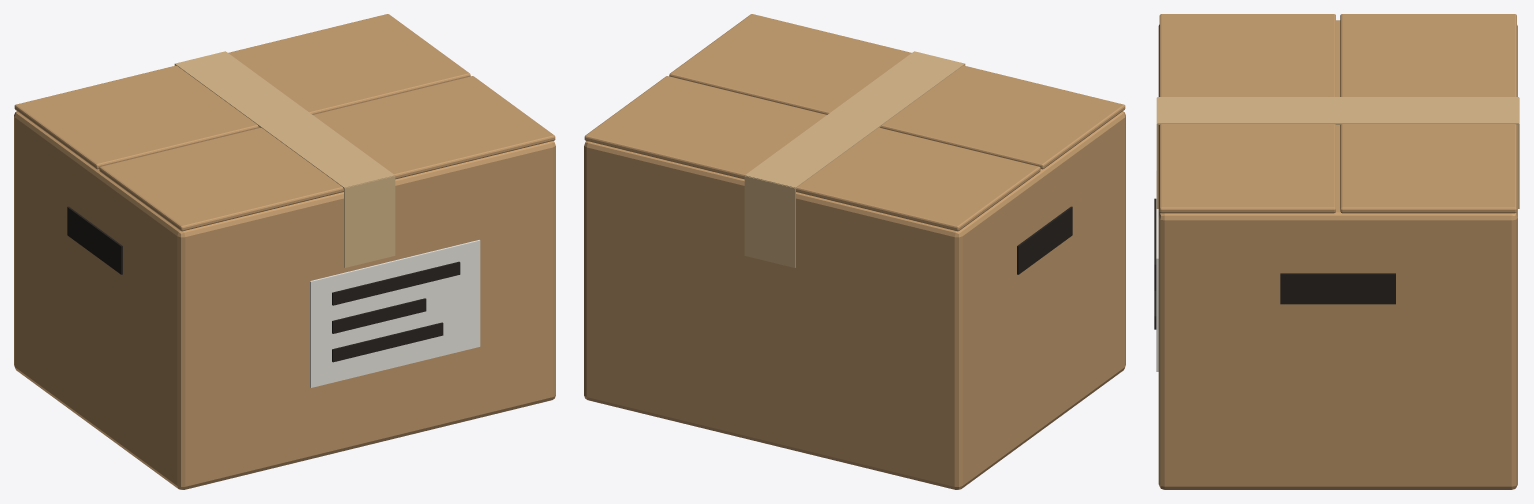
File: hh_cat_labelled_box.glb
The picture shows the model from 3 angles, left to right: view 1: azimuth 30°, elevation 25°; view 2: azimuth 150°, elevation 25°; view 3: azimuth 270°, elevation 25°; orthographic projection. The views are drawn at different scales.
Parts seen in each view (by area): view 1: carton, flap, flap.001, label, tape, tape.001, writing, hand_hole, writing.002, writing.001; view 2: carton, flap.001, flap, tape, tape.002, hand_hole; view 3: carton, flap, flap.001, tape, hand_hole.001, label.
Part boxes in pixels (x1,y1,x2,y2): carton: [14, 111, 555, 489]; flap: [99, 76, 555, 231]; flap.001: [14, 14, 470, 169]; label: [310, 240, 480, 387]; tape: [174, 51, 395, 188]; tape.001: [344, 176, 395, 267]; writing: [332, 261, 460, 305]; hand_hole: [67, 206, 122, 274]; writing.002: [332, 322, 443, 362]; writing.001: [332, 298, 426, 333]; carton: [584, 111, 1125, 489]; flap.001: [584, 76, 1040, 231]; flap: [669, 14, 1125, 169]; tape: [744, 51, 965, 188]; tape.002: [744, 176, 795, 267]; hand_hole: [1017, 206, 1072, 274]; carton: [1158, 20, 1517, 489]; flap: [1159, 14, 1335, 213]; flap.001: [1340, 14, 1516, 213]; tape: [1157, 97, 1518, 124]; hand_hole.001: [1280, 273, 1395, 304]; label: [1156, 171, 1158, 371].
Bounding box in the file's own units: 0.45 × 0.3 × 0.35.
